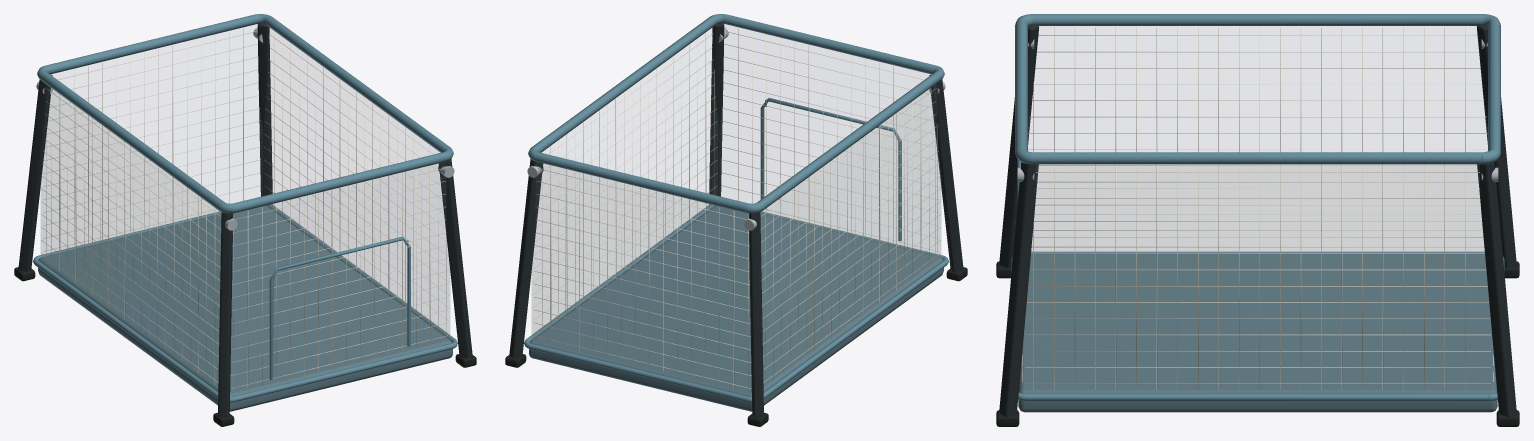
Rendered from portable-play-yard.glb.
3 renders of one model, left to right at view 1: azimuth 30°, elevation 25°; view 2: azimuth 150°, elevation 25°; view 3: azimuth 270°, elevation 25°, orthographic. The views are drawn at different scales.
Visible parts, largest first — view 1: portable-play-yard authored assembly; view 2: portable-play-yard authored assembly; view 3: portable-play-yard authored assembly.
Part boxes in pixels (<box>): portable-play-yard authored assembly: <box>14,14,476,426</box>; portable-play-yard authored assembly: <box>505,14,967,426</box>; portable-play-yard authored assembly: <box>996,14,1519,426</box>.
Bounding box in the file's own units: 0.81 × 0.64 × 1.14.
